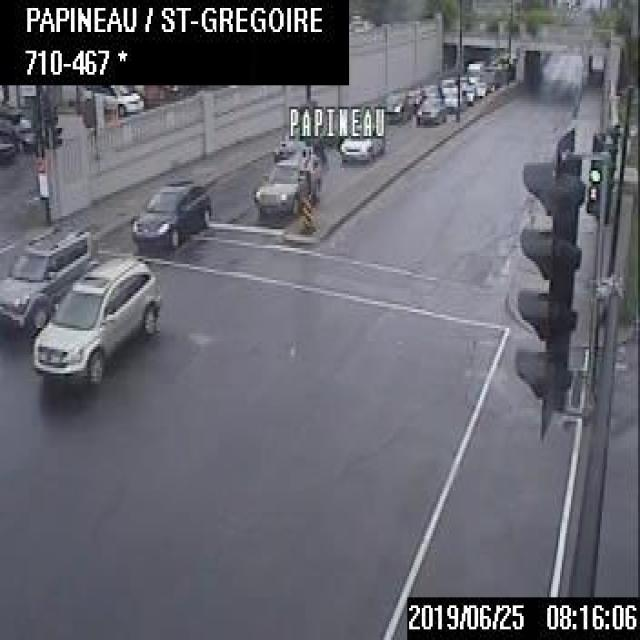vehicle: (29, 253, 160, 387), (0, 222, 96, 340), (128, 174, 213, 253), (251, 148, 324, 218), (336, 109, 382, 165), (84, 83, 144, 114), (0, 98, 36, 149), (272, 128, 308, 156), (382, 90, 412, 123), (414, 93, 444, 124), (439, 86, 462, 112), (0, 134, 13, 158)
